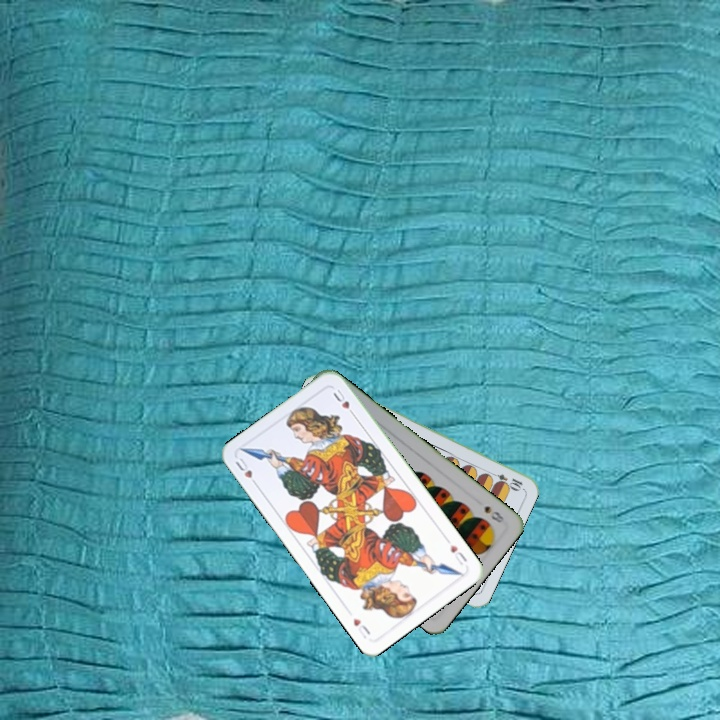E10: (485, 468, 525, 492)
HU: (231, 454, 261, 489), (446, 540, 470, 568)
S8: (480, 502, 507, 526)
